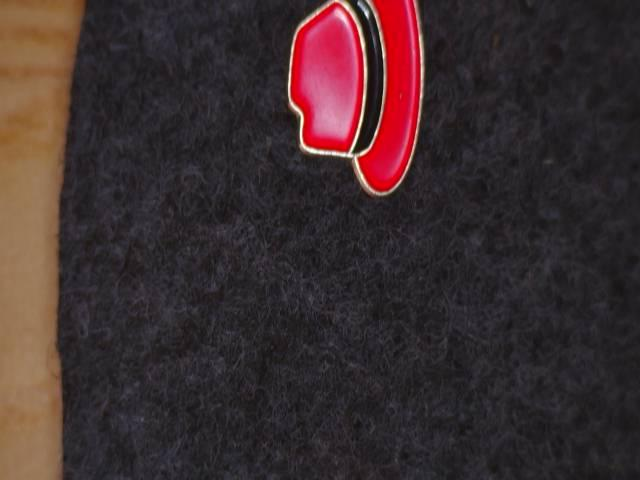Red-Hat: (281, 0, 443, 232)
